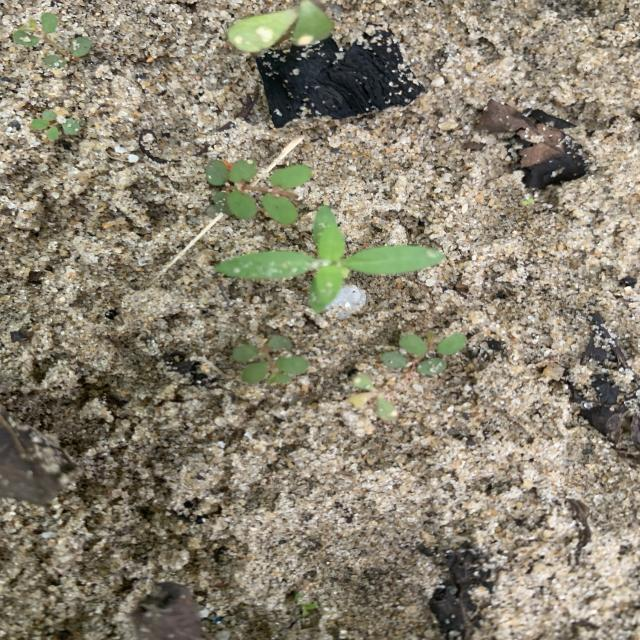weed: (215, 206, 444, 312), (205, 160, 311, 224), (227, 0, 334, 53), (11, 12, 91, 68), (233, 336, 309, 384), (399, 333, 466, 376), (349, 373, 398, 420), (30, 110, 85, 140), (381, 351, 410, 369)
